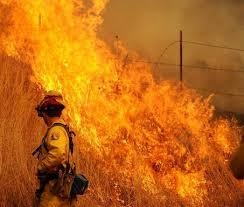fire: (7, 16, 243, 201)
